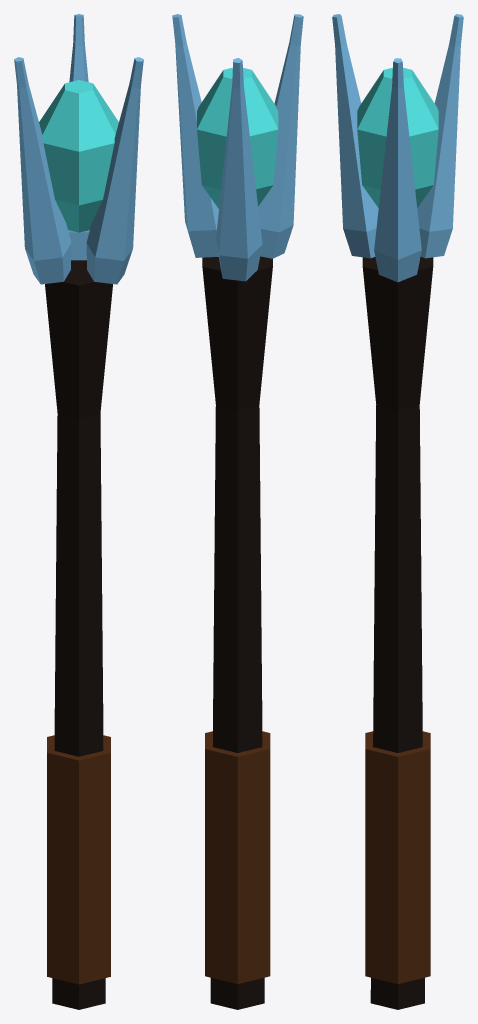
Rendered from wpn_wand_7.glb.
3 renders of one model, left to right at view 1: azimuth 90°, elevation 25°; view 2: azimuth 150°, elevation 25°; view 3: azimuth 270°, elevation 25°, orthographic.
Visible parts, largest first — view 1: wpn_wand_7; view 2: wpn_wand_7; view 3: wpn_wand_7.
Boxes of the visible parts, box(x1,y1,x2,y2) form: wpn_wand_7: box(14, 14, 143, 1009); wpn_wand_7: box(172, 14, 303, 1009); wpn_wand_7: box(332, 14, 463, 1009).
Bounding box in the file's own units: 0.0782 × 0.6805 × 0.084.
